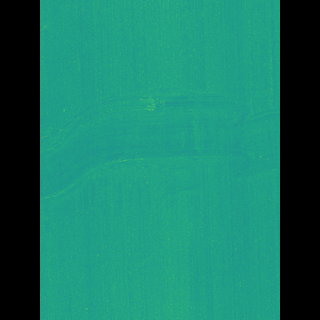Loch: (70, 80, 250, 226)
